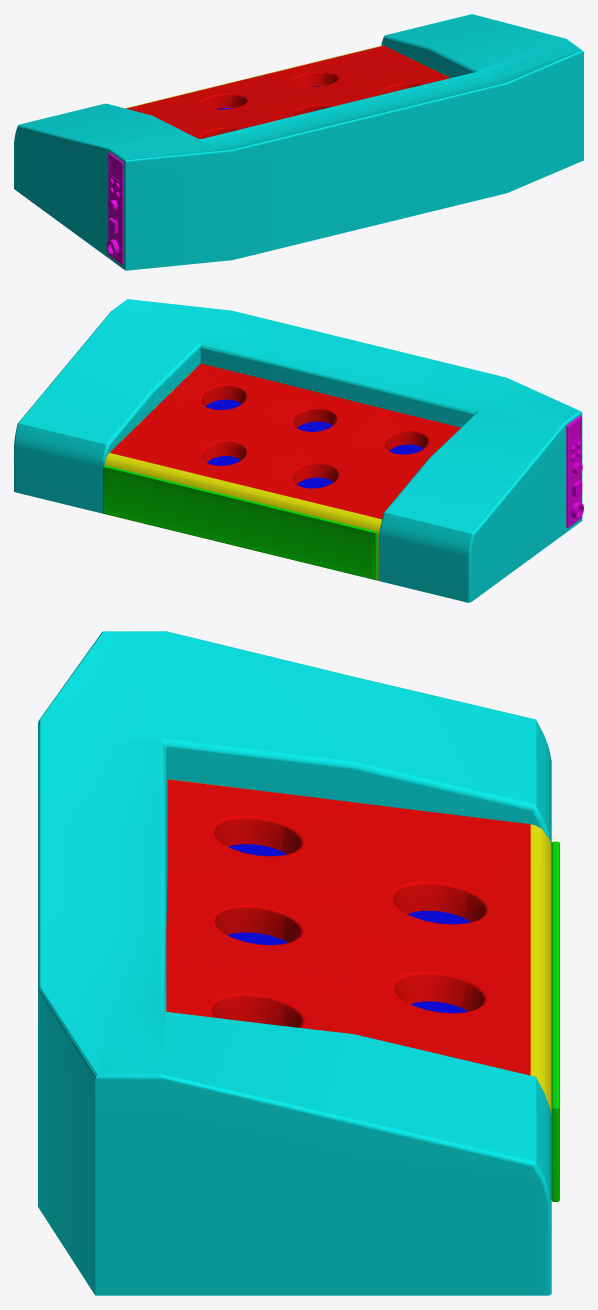
Rendered from CSmash_Machine_Final.fbx.
The picture shows the model from 3 angles, top to bottom: view 1: azimuth 30°, elevation 25°; view 2: azimuth 150°, elevation 25°; view 3: azimuth 270°, elevation 25°; orthographic projection. The views are drawn at different scales.
Visible parts, largest first — view 1: frame, hole4, hole5, hole2, hole1, panelBase, hole3; view 2: frame, skullDoor, hole4, hole5, hole1, hole2, hole3, skullHolder, sightBlocker, panelBase; view 3: frame, hole5, hole4, hole2, hole3, hole1, skullHolder, skullDoor, sightBlocker.
Boxes of the visible parts, box(x1,y1,x2,y2) form: frame: box(14, 14, 583, 270); hole4: box(247, 45, 429, 100); hole5: box(126, 79, 291, 128); hole2: box(247, 90, 358, 122); hole1: box(338, 68, 450, 99); panelBase: box(108, 152, 123, 264); hole3: box(179, 112, 266, 138); frame: box(14, 299, 582, 602); skullDoor: box(103, 465, 377, 579); hole4: box(110, 408, 291, 486); hole5: box(247, 442, 416, 519); hole1: box(155, 363, 291, 430); hole2: box(247, 386, 382, 452); hole3: box(338, 408, 460, 472); skullHolder: box(104, 374, 381, 580); sightBlocker: box(206, 399, 423, 488); panelBase: box(566, 415, 581, 527); frame: box(38, 631, 551, 1295); hole5: box(349, 802, 530, 958); hole4: box(348, 936, 530, 1075); hole2: box(166, 868, 348, 980); hole3: box(168, 779, 348, 890); hole1: box(166, 958, 347, 1033); skullHolder: box(169, 779, 551, 1114); skullDoor: box(551, 841, 559, 1201); sightBlocker: box(228, 844, 471, 1013).
Size of the model in its own units: 254 by 57.8 by 124.
